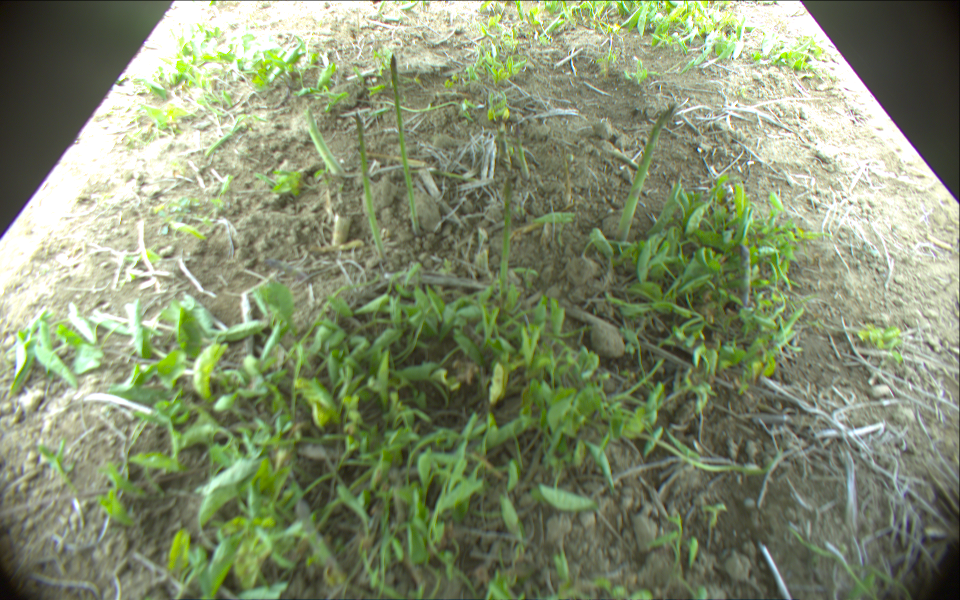aspa: (615, 103, 677, 240), (388, 56, 421, 233), (356, 114, 384, 256), (304, 110, 341, 174), (500, 178, 513, 293), (738, 243, 754, 308), (513, 121, 530, 182)
